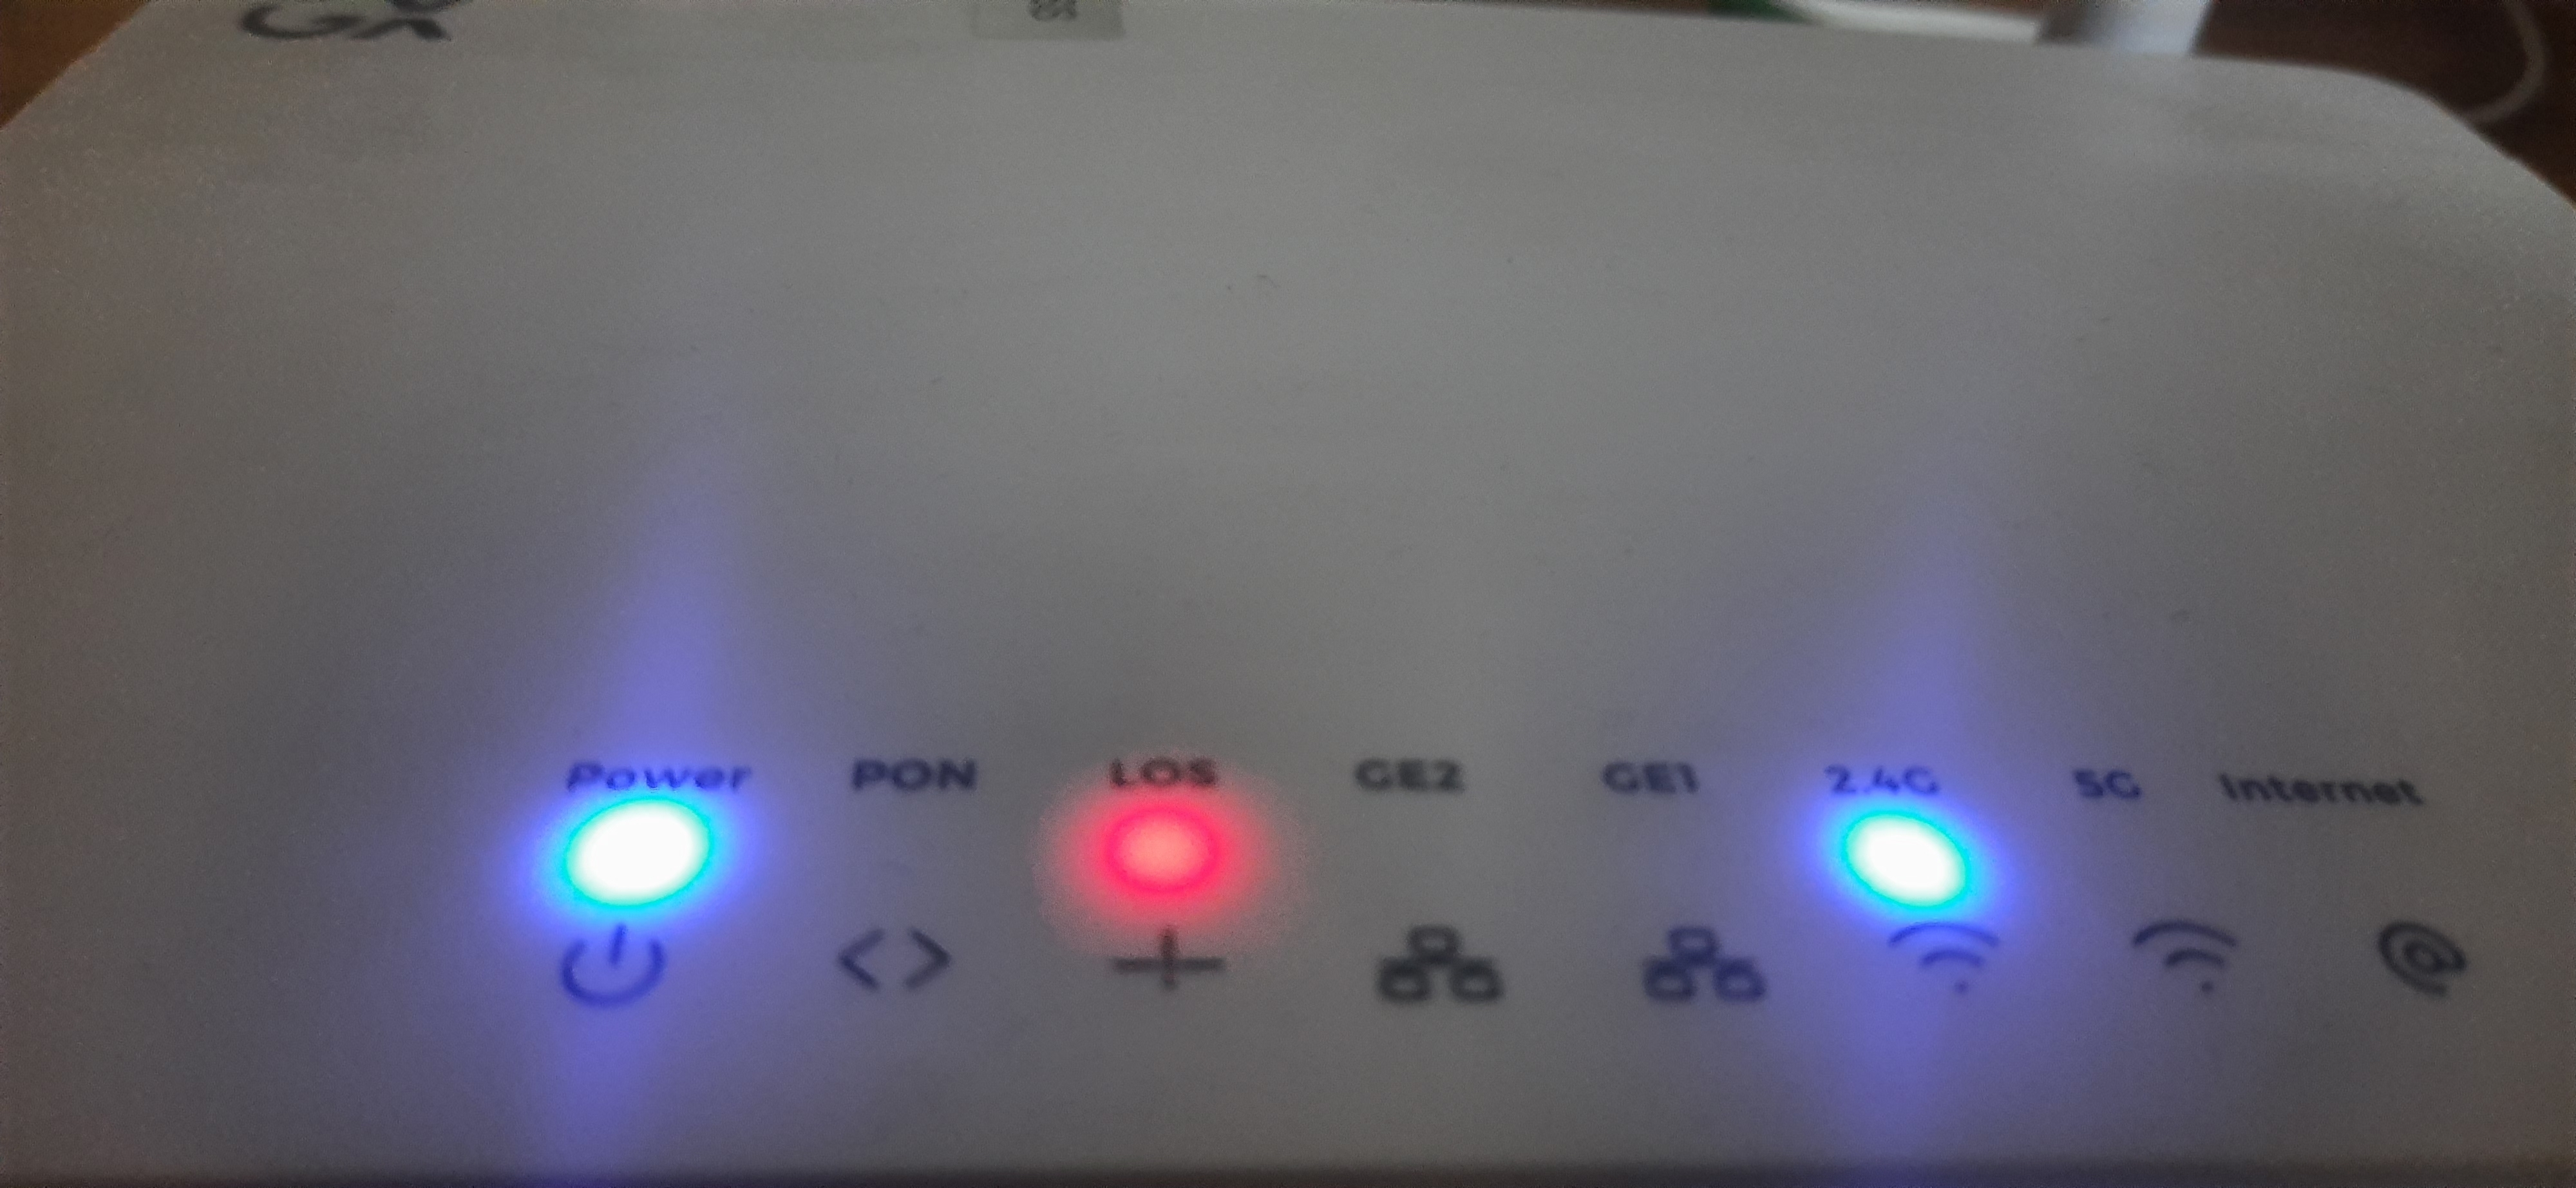LOSConnectionIssue: (996, 708, 1339, 1057)
